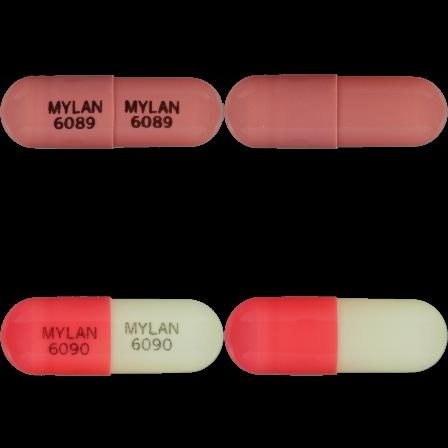0378-6089: (0, 0, 224, 224)
